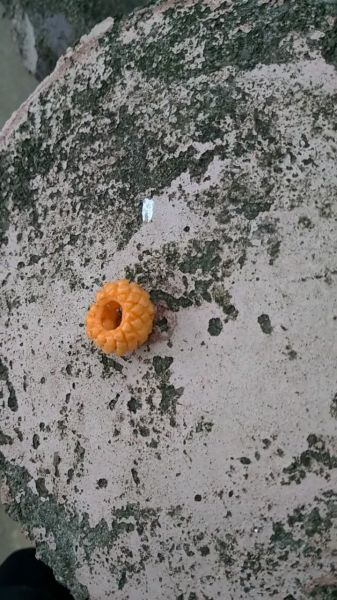eggs: (79, 277, 156, 359)
